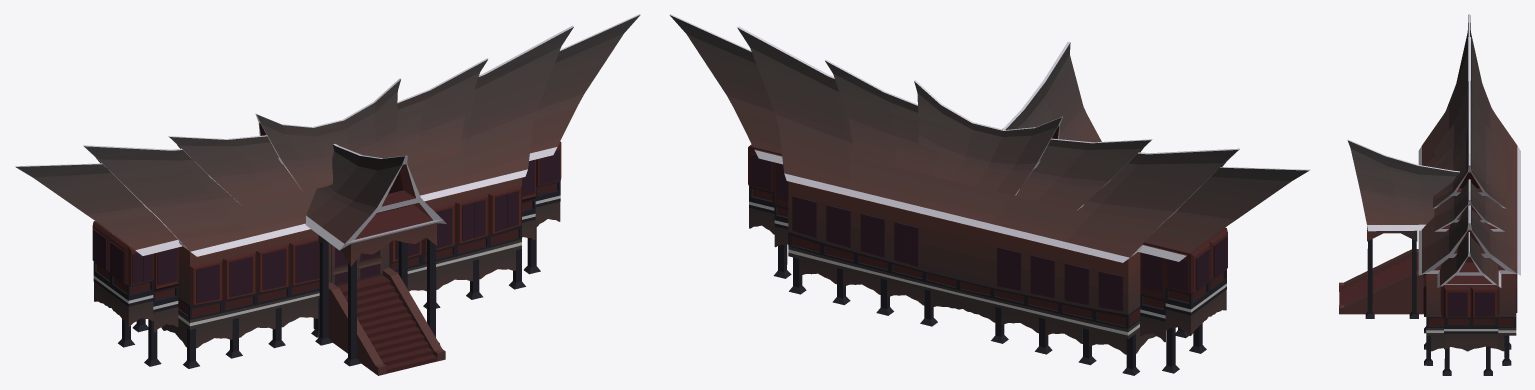
Rendered from environment cutscene[1].fbx.
3 renders of one model, left to right at view 1: azimuth 30°, elevation 25°; view 2: azimuth 150°, elevation 25°; view 3: azimuth 270°, elevation 25°, orthographic. The views are drawn at different scales.
Parts seen in each view (by area): view 1: pCube28.001, badan rumah, pCube5.001, pCube9.001, atap depan, pCube3.001, tangga, sayap rumah, tembok tangga, tiangdepan, kaki bawah, pasted__pasted__pasted__pasted__pasted__pCube18.005 (+18 smaller); view 2: pCube28.001, badan rumah, pCube5.001, pCube9.001, pCube3.001, sayap rumah, atap depan, kaki bawah, pasted__pasted__pasted__pasted__pasted__pCube18.004, pasted__pasted__pasted__pasted__pasted__pCube18.005, kaki samping, Cube.079 (+14 smaller); view 3: pCube28.001, atap depan, pCube9.001, pCube3.001, tembok tangga, pCube5.001, badan rumah, sayap rumah, tangga, tiangdepan, pasted__pasted__pasted__pasted__pasted__pCube18.001, pasted__pasted__pasted__pasted__pasted__pCube18.007 (+7 smaller).
Part boxes in pixels (x1=…): pCube28.001: x1=83, y1=25, x2=573, y2=256; badan rumah: x1=178, y1=177, x2=521, y2=329; pCube5.001: x1=15, y1=14, x2=640, y2=255; pCube9.001: x1=168, y1=58, x2=488, y2=206; atap depan: x1=305, y1=144, x2=446, y2=250; pCube3.001: x1=255, y1=78, x2=400, y2=191; tangga: x1=337, y1=275, x2=437, y2=373; sayap rumah: x1=92, y1=141, x2=561, y2=312; tembok tangga: x1=313, y1=267, x2=445, y2=375; tiangdepan: x1=315, y1=238, x2=439, y2=366; kaki bawah: x1=132, y1=249, x2=525, y2=368; pasted__pasted__pasted__pasted__pasted__pCube18.005: x1=196, y1=298, x2=318, y2=348; pCube28.001: x1=737, y1=26, x2=1239, y2=262; badan rumah: x1=788, y1=181, x2=1140, y2=338; pCube5.001: x1=669, y1=14, x2=1310, y2=261; pCube9.001: x1=825, y1=59, x2=1152, y2=211; pCube3.001: x1=914, y1=80, x2=1063, y2=195; sayap rumah: x1=748, y1=144, x2=1227, y2=321; atap depan: x1=1002, y1=41, x2=1101, y2=142; kaki bawah: x1=789, y1=257, x2=1189, y2=375; pasted__pasted__pasted__pasted__pasted__pCube18.004: x1=799, y1=259, x2=924, y2=305; pasted__pasted__pasted__pasted__pasted__pCube18.005: x1=1001, y1=308, x2=1126, y2=354; kaki samping: x1=773, y1=244, x2=1206, y2=373; Cube.079: x1=872, y1=216, x2=1043, y2=295; pCube28.001: x1=1418, y1=37, x2=1520, y2=275; atap depan: x1=1347, y1=139, x2=1459, y2=231; pCube9.001: x1=1434, y1=78, x2=1504, y2=231; pCube3.001: x1=1433, y1=110, x2=1506, y2=208; tembok tangga: x1=1339, y1=249, x2=1423, y2=314; pCube5.001: x1=1437, y1=14, x2=1501, y2=287; badan rumah: x1=1424, y1=274, x2=1516, y2=335; sayap rumah: x1=1441, y1=268, x2=1498, y2=333; tangga: x1=1339, y1=256, x2=1418, y2=304; tiangdepan: x1=1365, y1=239, x2=1418, y2=318; pasted__pasted__pasted__pasted__pasted__pCube18.001: x1=1445, y1=333, x2=1497, y2=348; pasted__pasted__pasted__pasted__pasted__pCube18.007: x1=1431, y1=335, x2=1504, y2=351.
Bounding box in the file's own units: 6780 × 2282 × 2191.
